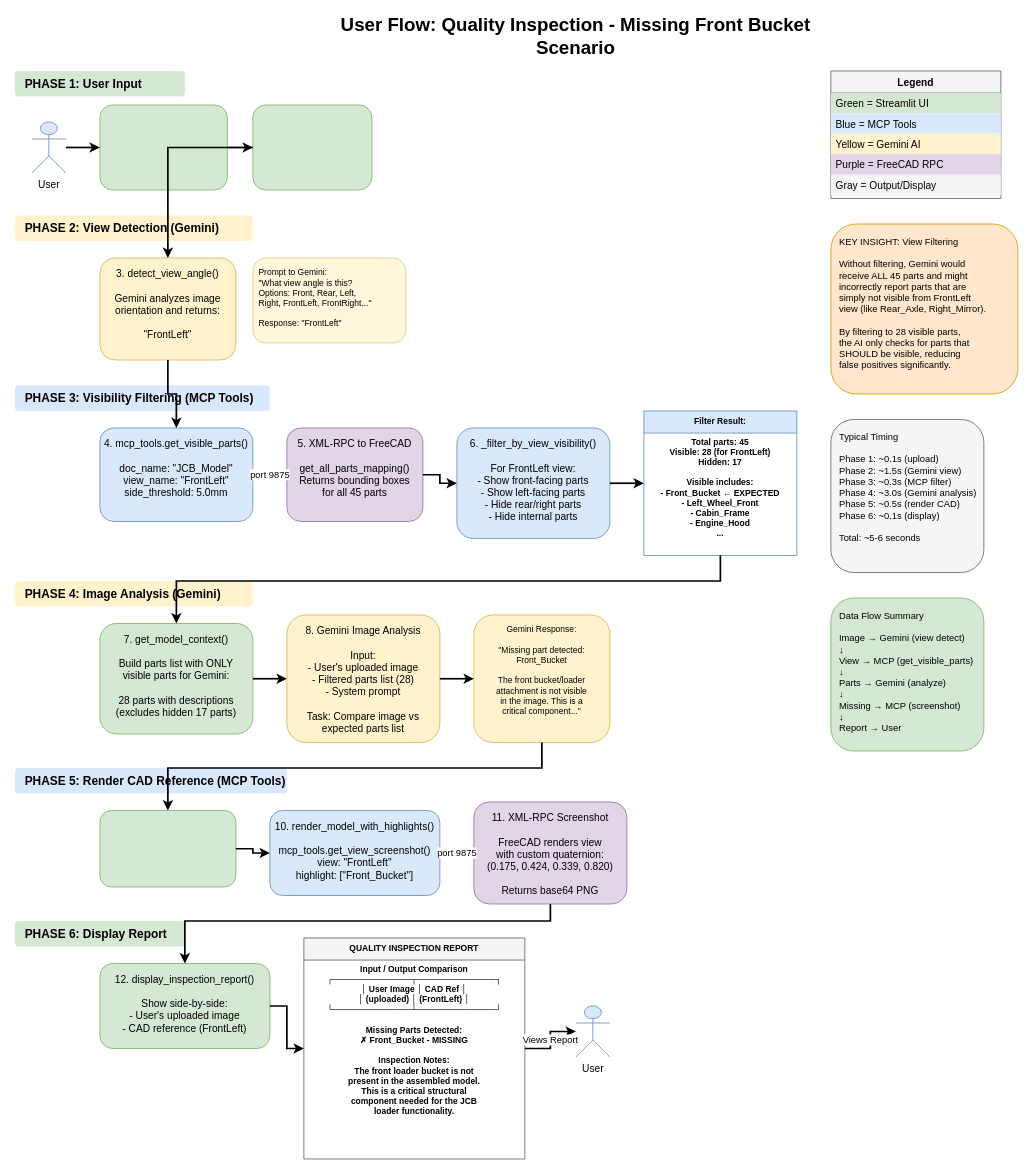
The diagram is 1033 pixels wide and 1174 high, and some of its shapes have lost their labels. Here are the shapes that lost their labels. From the top down, the centre of each, then its label:
(x=163, y=147): 1. Upload Image User uploads photo of LEGO Technic model (missing front bucket)
(x=312, y=147): 2. Click Button "Generate Inspection Report"
(x=167, y=848): 9. extract_mentioned_parts() Parse Gemini response to find: "Front_Bucket"
